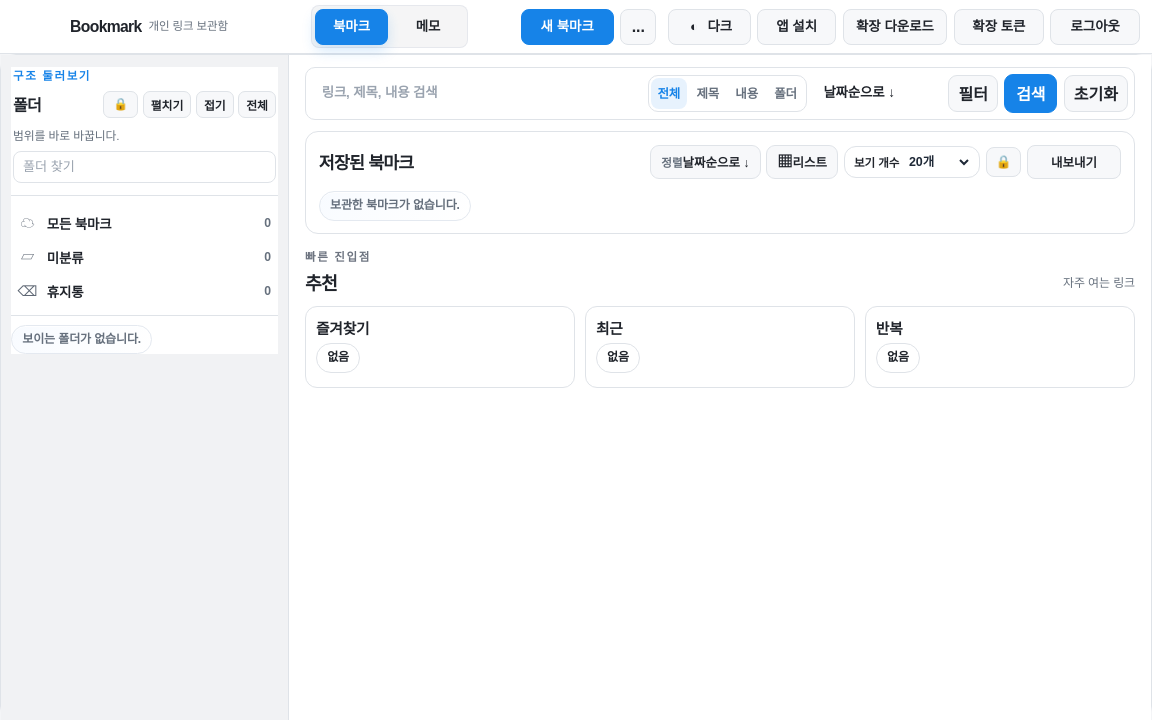
Scenario: bookmark dashboard › connects the installed extension from the token manager
The width and height of the screenshot is (1152, 720).
Click the button with aria-label "확장 토큰 관리" at (999, 26), box [954,8,1044,44]
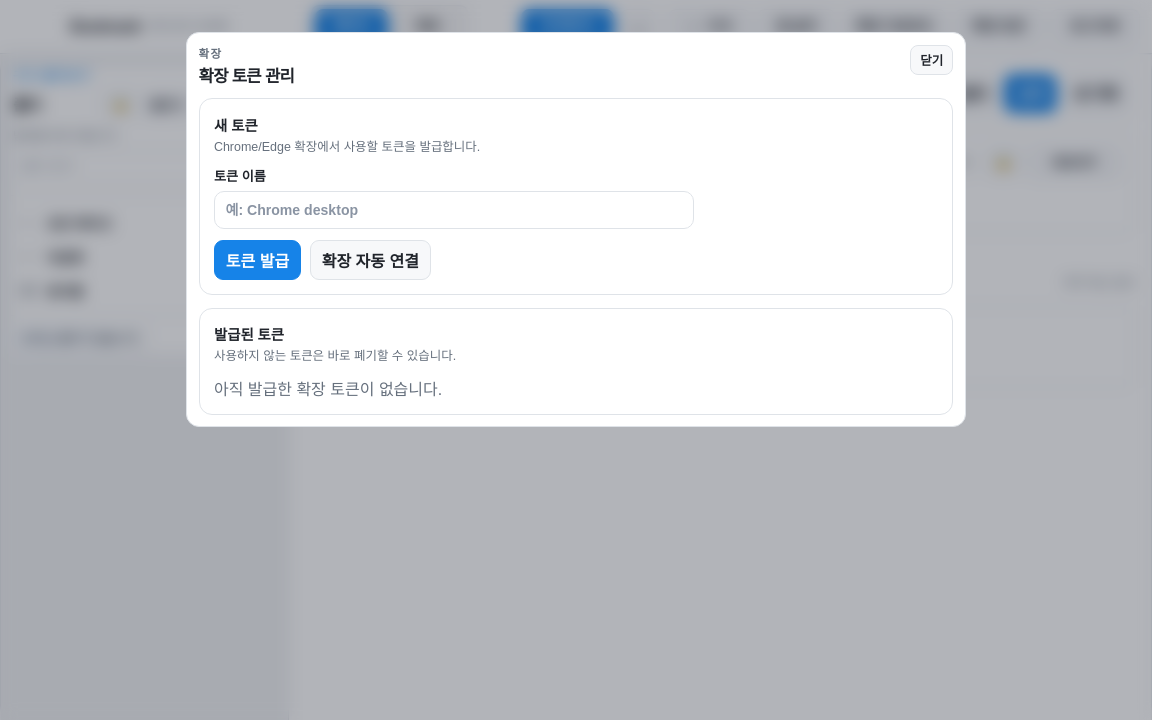
Click the button "확장 자동 연결" at (370, 260), box [310,240,431,280]
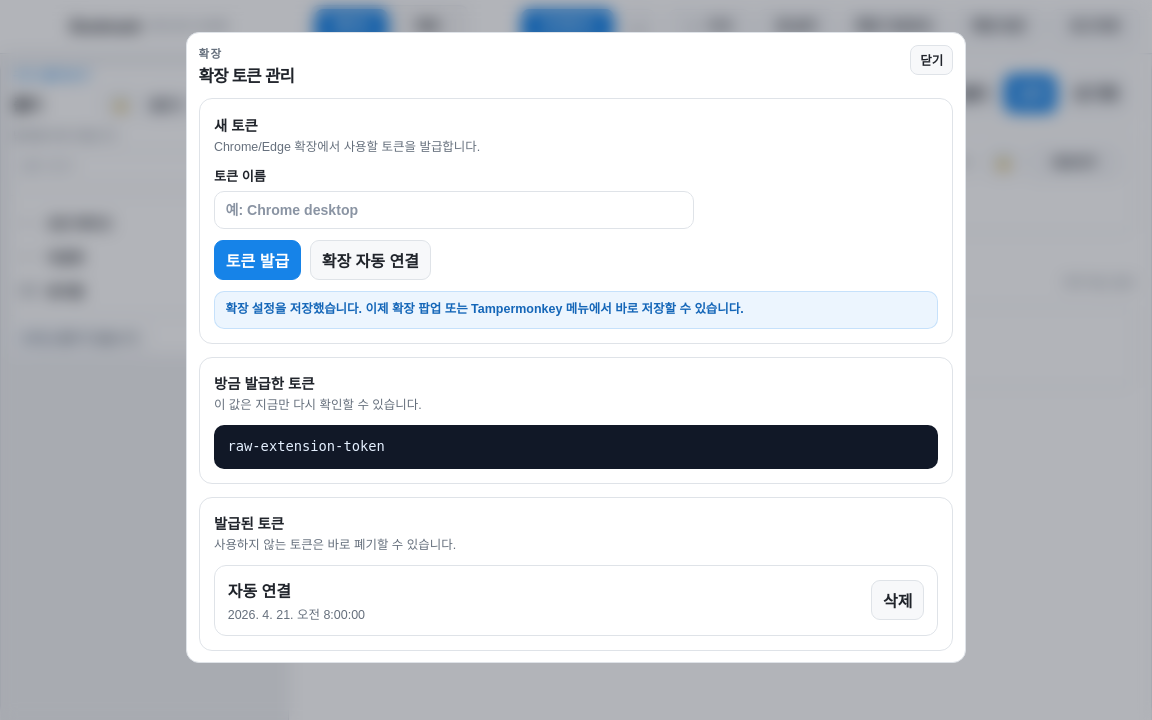
Result: the text "확장 설정을 저장했습니다. 이제 확장 팝업 또는 Tampermonkey 메뉴에서 바로 저장할 수 있습니다." is shown at [214,291,938,329]
